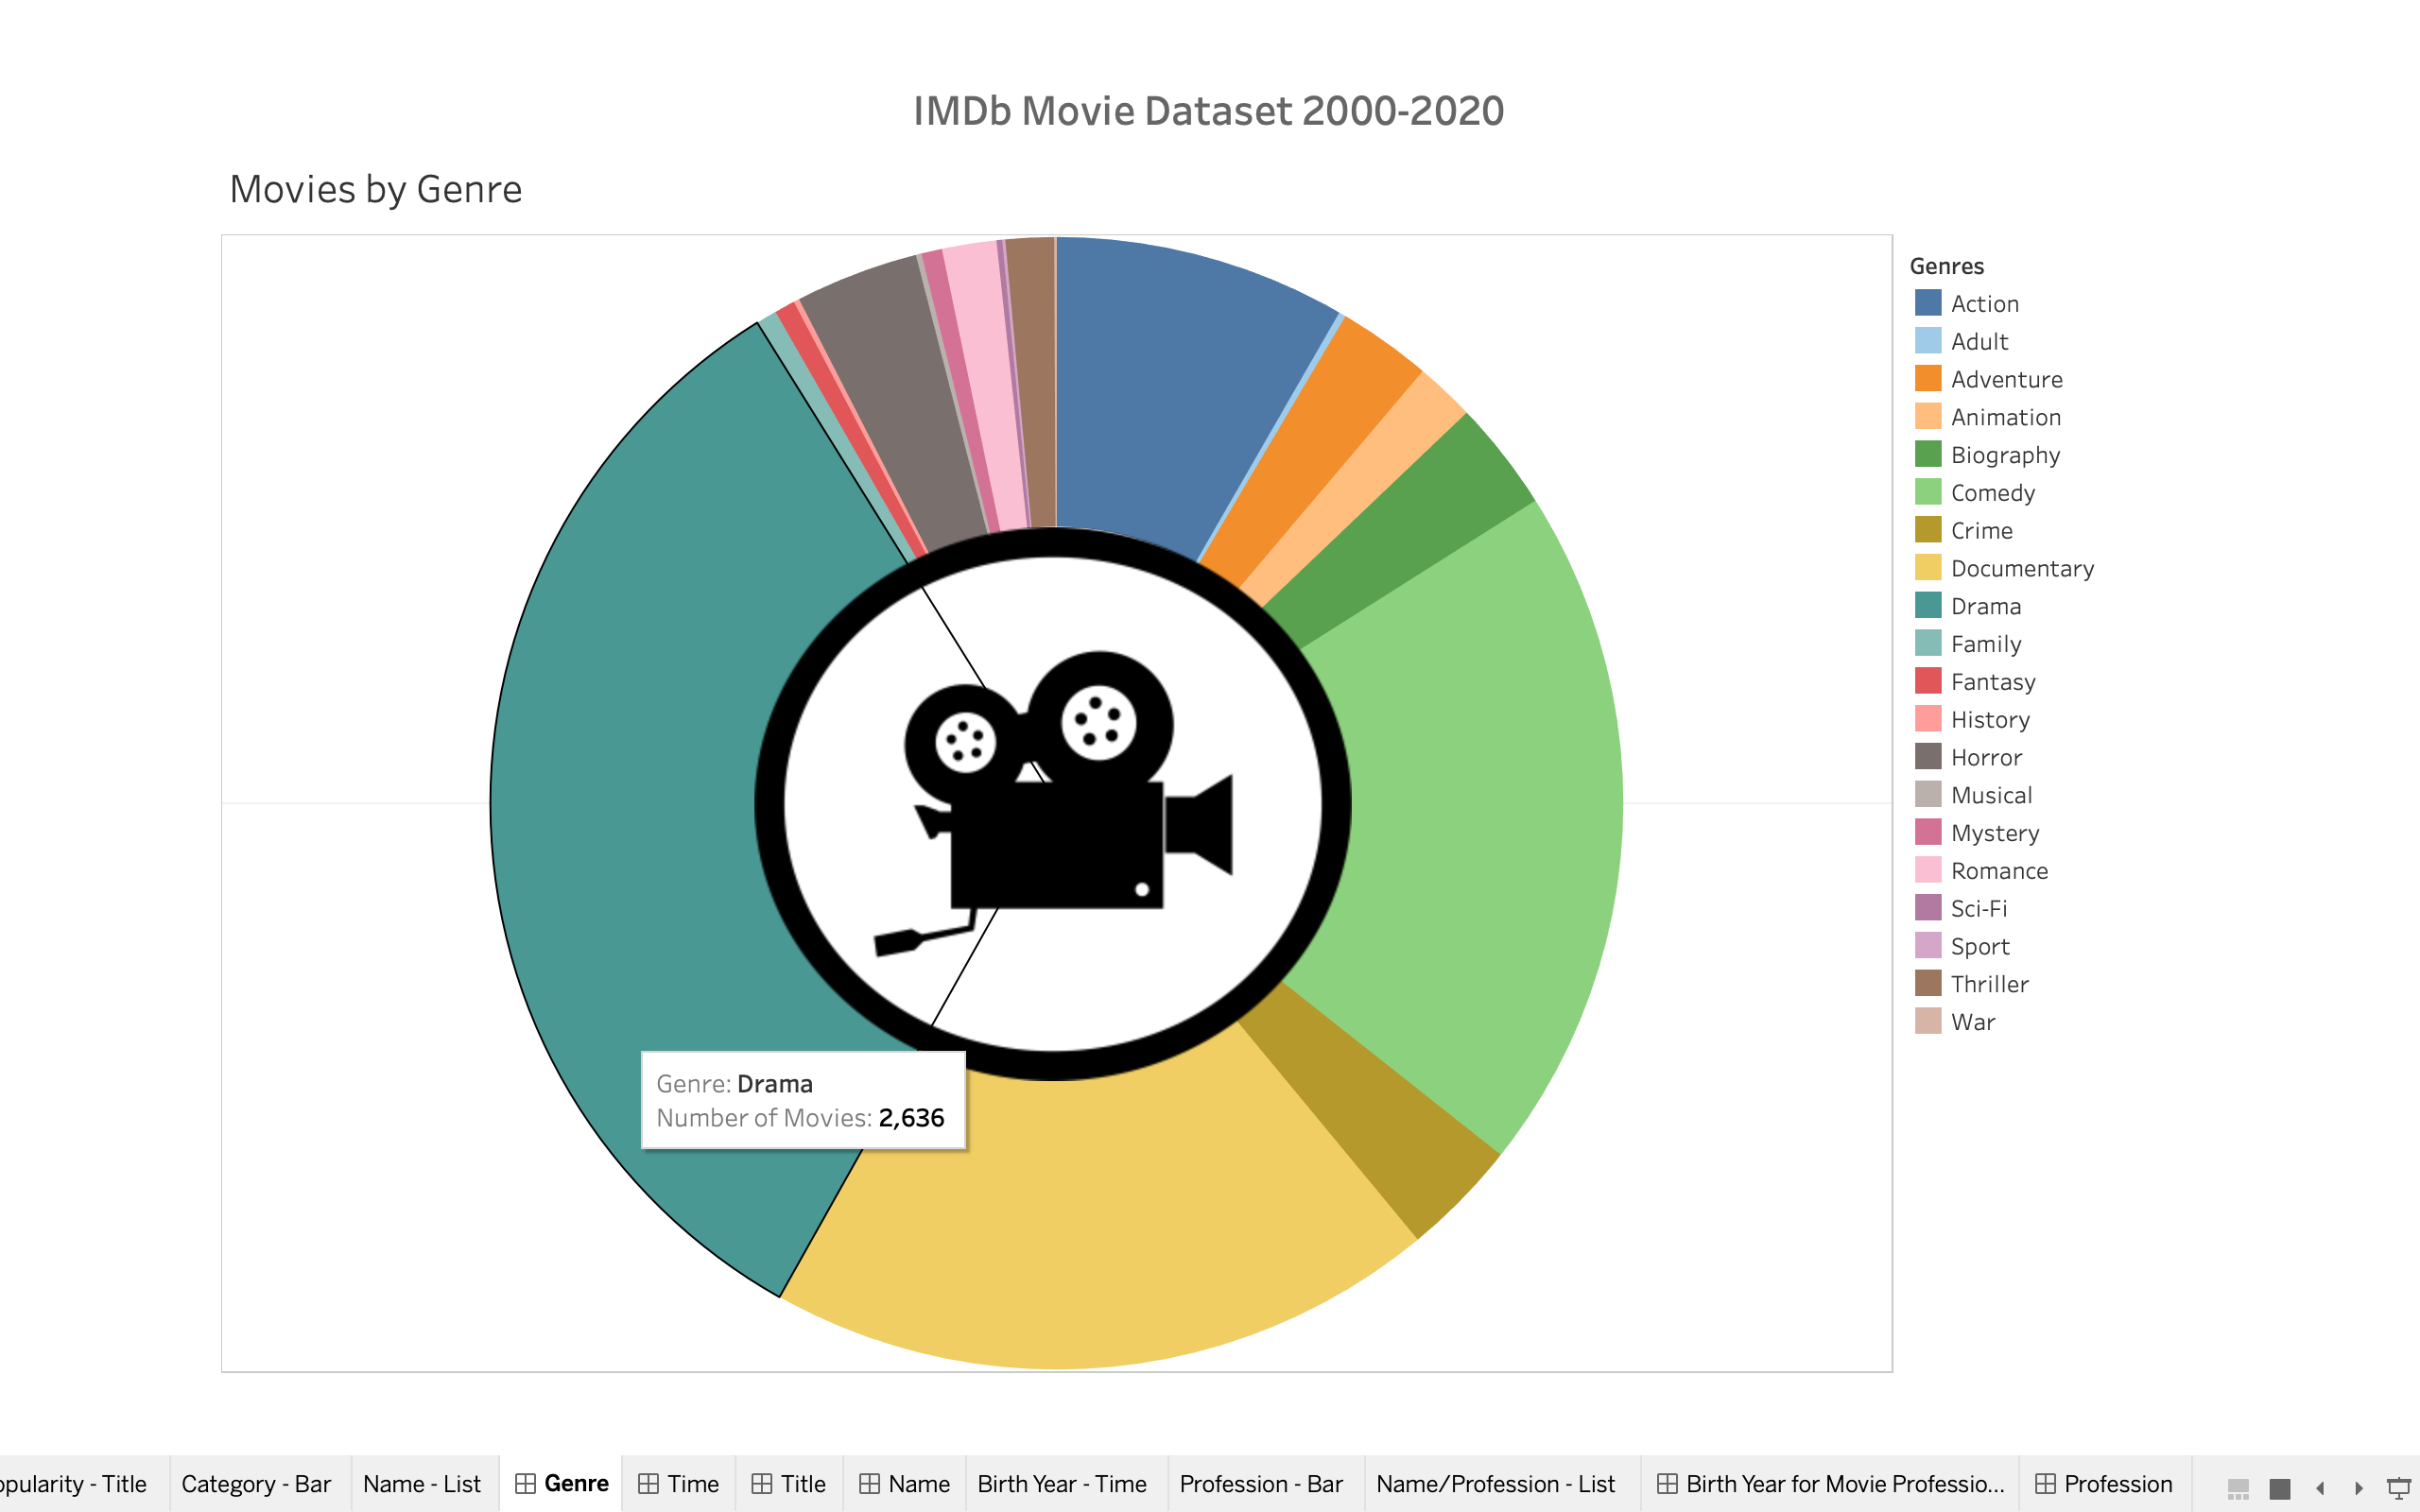

This screenshot's page, from the dashboard's own definition file:
{"tool":"tableau","page":{"name":"Genre","canvas":[1069,708],"ordinal":1},"visuals":[{"type":"text","box":[8,8,1053,37.8]},{"type":"worksheet","title":"Genres - Pie","mark":"Pie","rows":["Number of Records","Number of Records"],"box":[8,45.8,893,654.2]},{"type":"blank","box":[901,45.8,160,50.8]},{"type":"legend","title":"Genres - Pie","param":"[federated.0djuw8v0drb7qh135v3r01aqzp30].[none:genres - Split 1:nk]","box":[901,96.5,160,426]},{"type":"image","param":"/Users/tobychappell/Documents/CPSC_Courses/CPSC_408/Final_Project/Tableau Photos","box":[291,248,323,293]}]}

Visuals, with their boxes on the page's 1069x708 design canvas (x1, y1, x2, y2). These are canvas units, not pixel positions in the 2420x1512 screenshot, which may show the page scaled, cropped or inside an application window:
text: {"left": 8, "top": 8, "right": 1061, "bottom": 46}
"Genres - Pie" worksheet (Pie marks): {"left": 8, "top": 46, "right": 901, "bottom": 700}
blank: {"left": 901, "top": 46, "right": 1061, "bottom": 97}
"Genres - Pie" legend: {"left": 901, "top": 96, "right": 1061, "bottom": 522}
image: {"left": 291, "top": 248, "right": 614, "bottom": 541}
